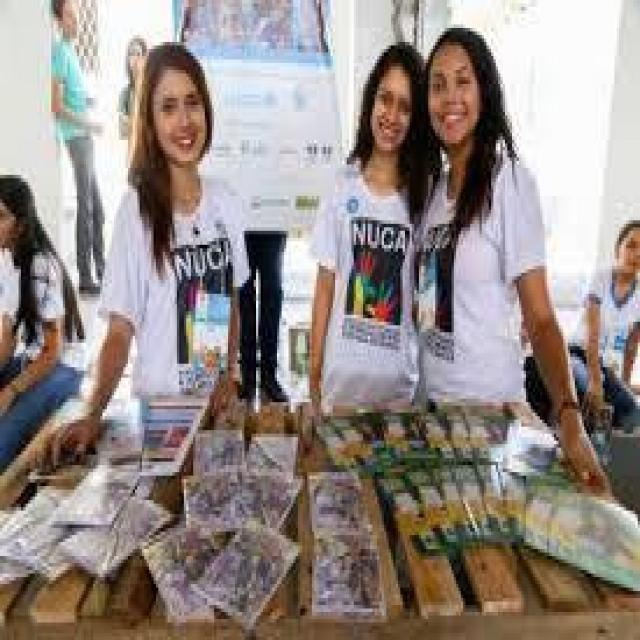person: (396, 25, 586, 465), (114, 18, 272, 518), (314, 11, 428, 440)
